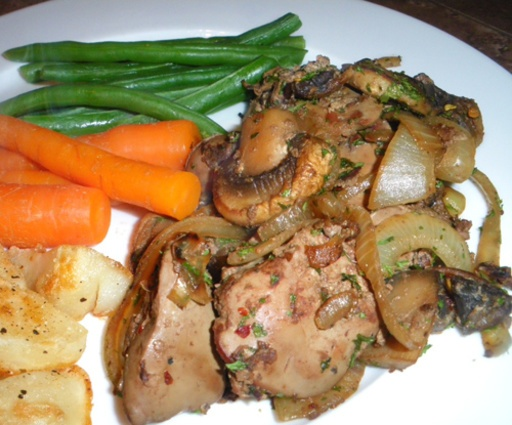background: (0, 7, 410, 282)
